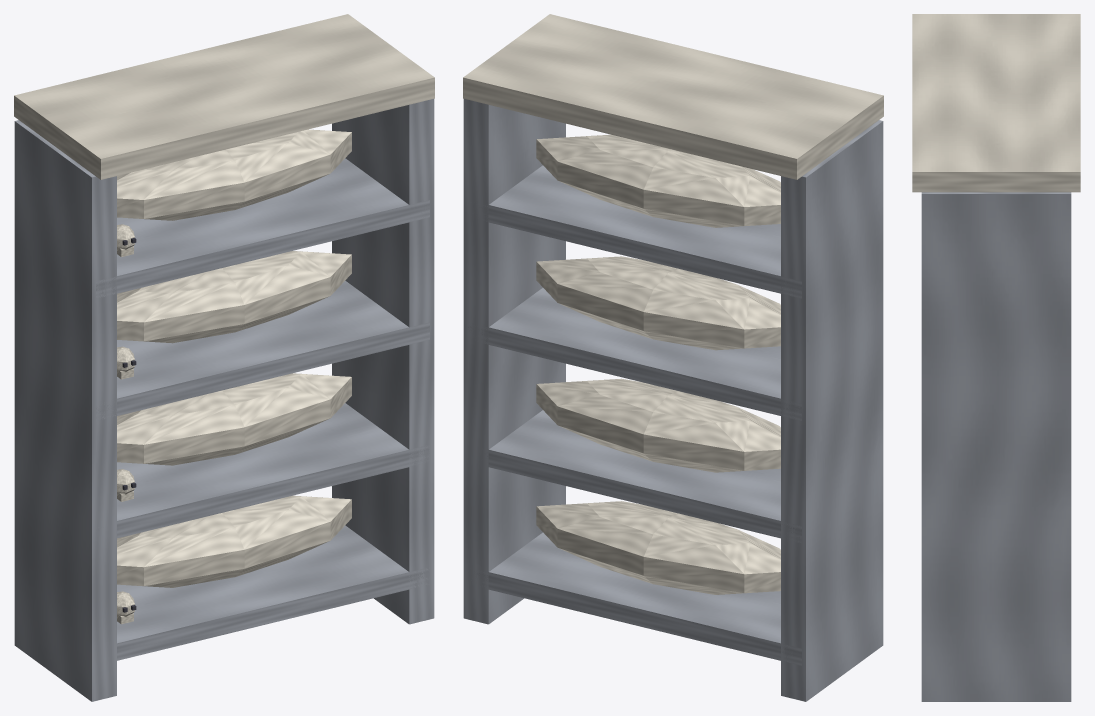
The model's file is vampire-crypt-and-gothic-cathedral-loculi-stack-9170b6cc__22994.glb.
The picture shows the model from 3 angles, left to right: view 1: azimuth 30°, elevation 25°; view 2: azimuth 150°, elevation 25°; view 3: azimuth 270°, elevation 25°; orthographic projection. The views are drawn at different scales.
Parts seen in each view (by area): view 1: loculi-stack; view 2: loculi-stack; view 3: loculi-stack.
Part boxes in pixels (x1,y1,x2,y2): loculi-stack: [14, 14, 434, 701]; loculi-stack: [463, 14, 883, 701]; loculi-stack: [912, 14, 1080, 701].
Size of the model in its own units: 2.05 by 3.12 by 0.9.
Materials: 3 (2 with a texture image).
